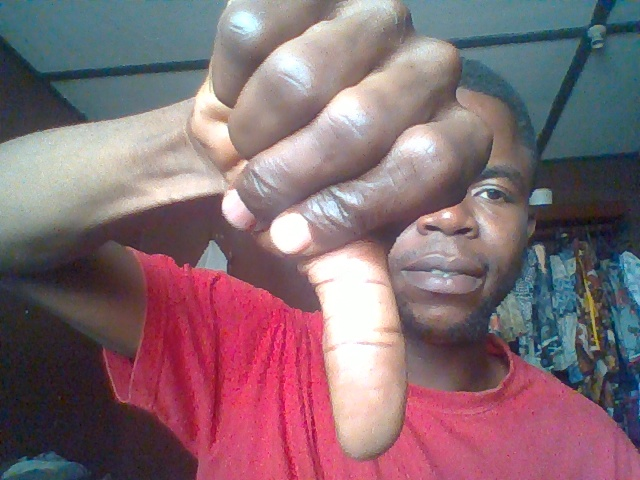Thumbdown: (194, 1, 500, 461)
